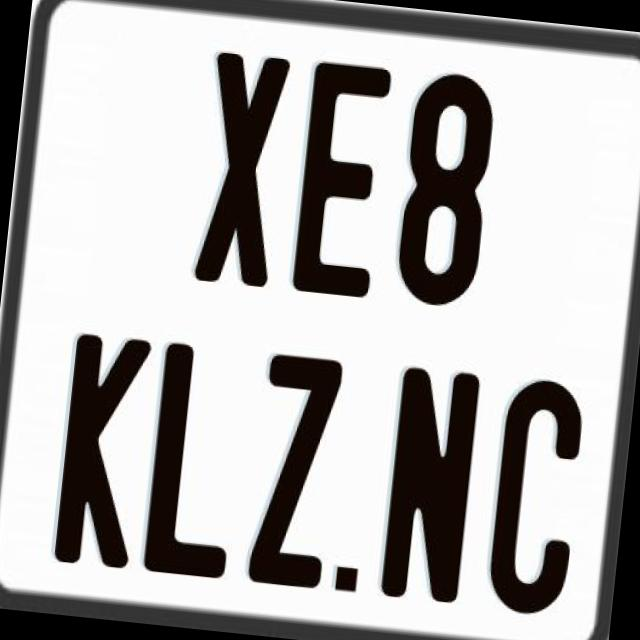8: (392, 68, 498, 317)
C: (484, 372, 591, 614)
E: (291, 61, 398, 305)
K: (52, 331, 154, 575)
L: (138, 342, 244, 588)
N: (379, 364, 482, 611)
X: (194, 46, 294, 282)
Z: (248, 350, 346, 589)
